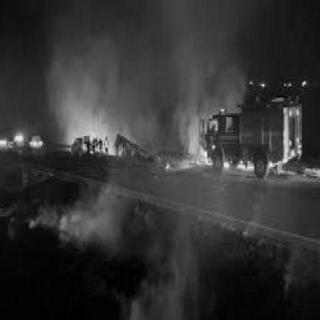Smoke: (41, 10, 250, 137)
